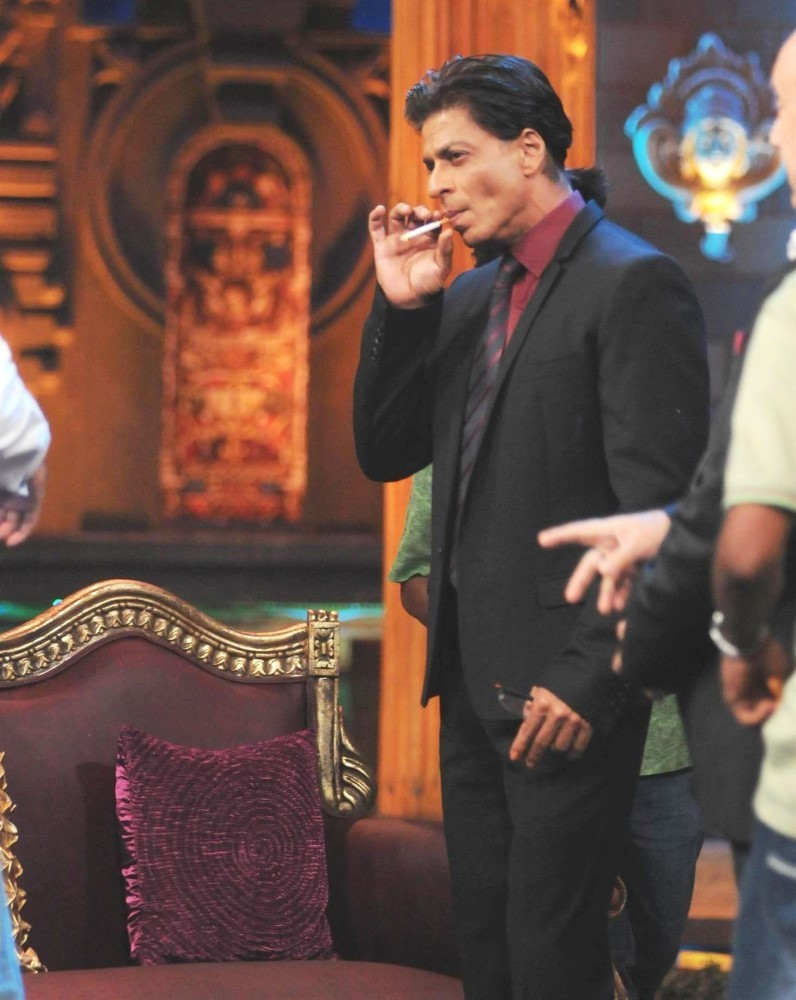cigarette: (387, 201, 460, 253)
